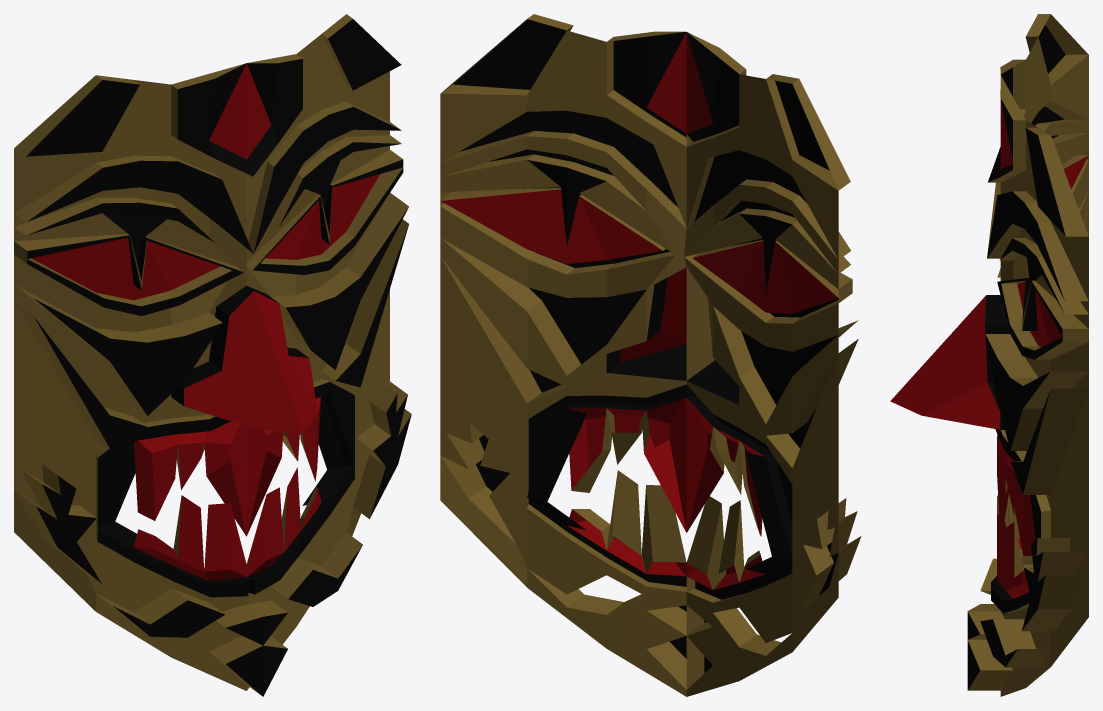
The model's file is maskDef.fbx.
3 renders of one model, left to right at view 1: azimuth 30°, elevation 25°; view 2: azimuth 150°, elevation 25°; view 3: azimuth 270°, elevation 25°, orthographic. The views are drawn at different scales.
Visible parts, largest first — view 1: Cube.002; view 2: Cube.002; view 3: Cube.002.
Boxes of the visible parts, left/top/right/bottom form: Cube.002: left=14, top=14, right=411, bottom=696; Cube.002: left=440, top=14, right=861, bottom=696; Cube.002: left=890, top=14, right=1088, bottom=696.
Size of the model in its own units: 39 by 62.26 by 18.02.
